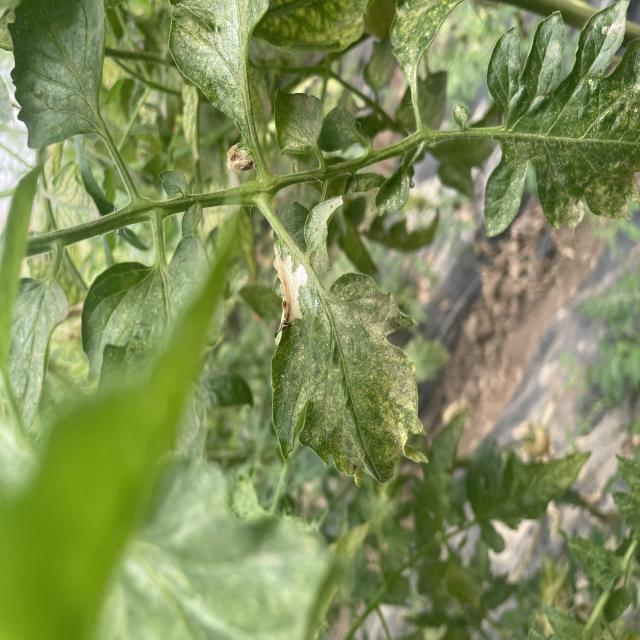Tuta absoluta: (273, 247, 309, 336)
